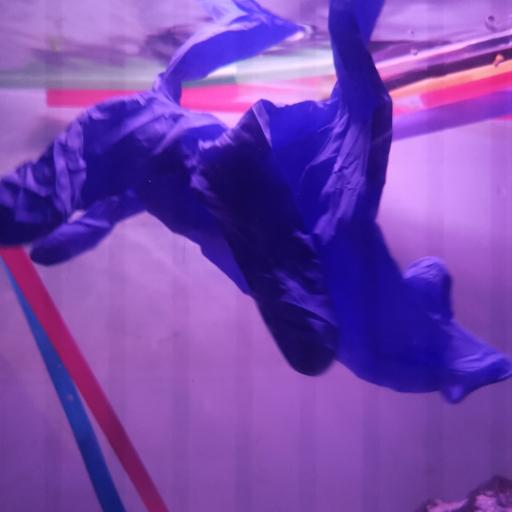glove: (2, 0, 512, 408)
plastic_straw: (0, 245, 170, 512), (2, 258, 128, 512), (0, 55, 336, 90), (47, 90, 321, 114), (391, 88, 512, 141), (380, 48, 512, 94), (391, 72, 512, 116), (388, 59, 512, 98), (233, 58, 336, 84)
